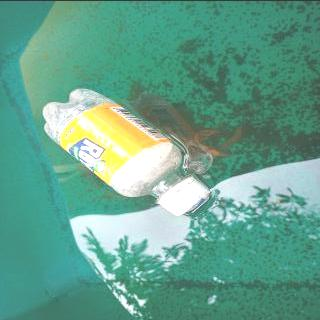bottle: (39, 86, 214, 218)
